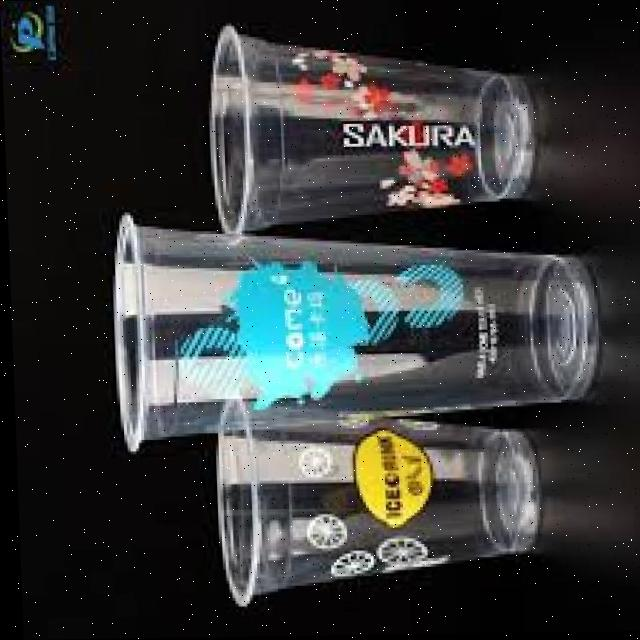cup: (83, 195, 619, 476), (193, 376, 553, 615), (192, 21, 556, 240)
